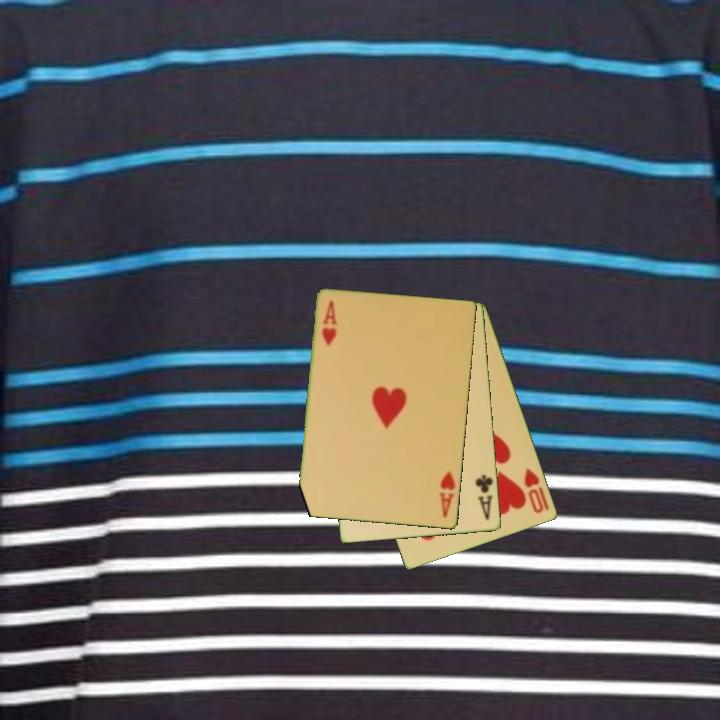10h: (521, 465, 547, 517)
Ac: (472, 471, 496, 523)
Ah: (436, 468, 458, 520), (318, 297, 339, 349)
